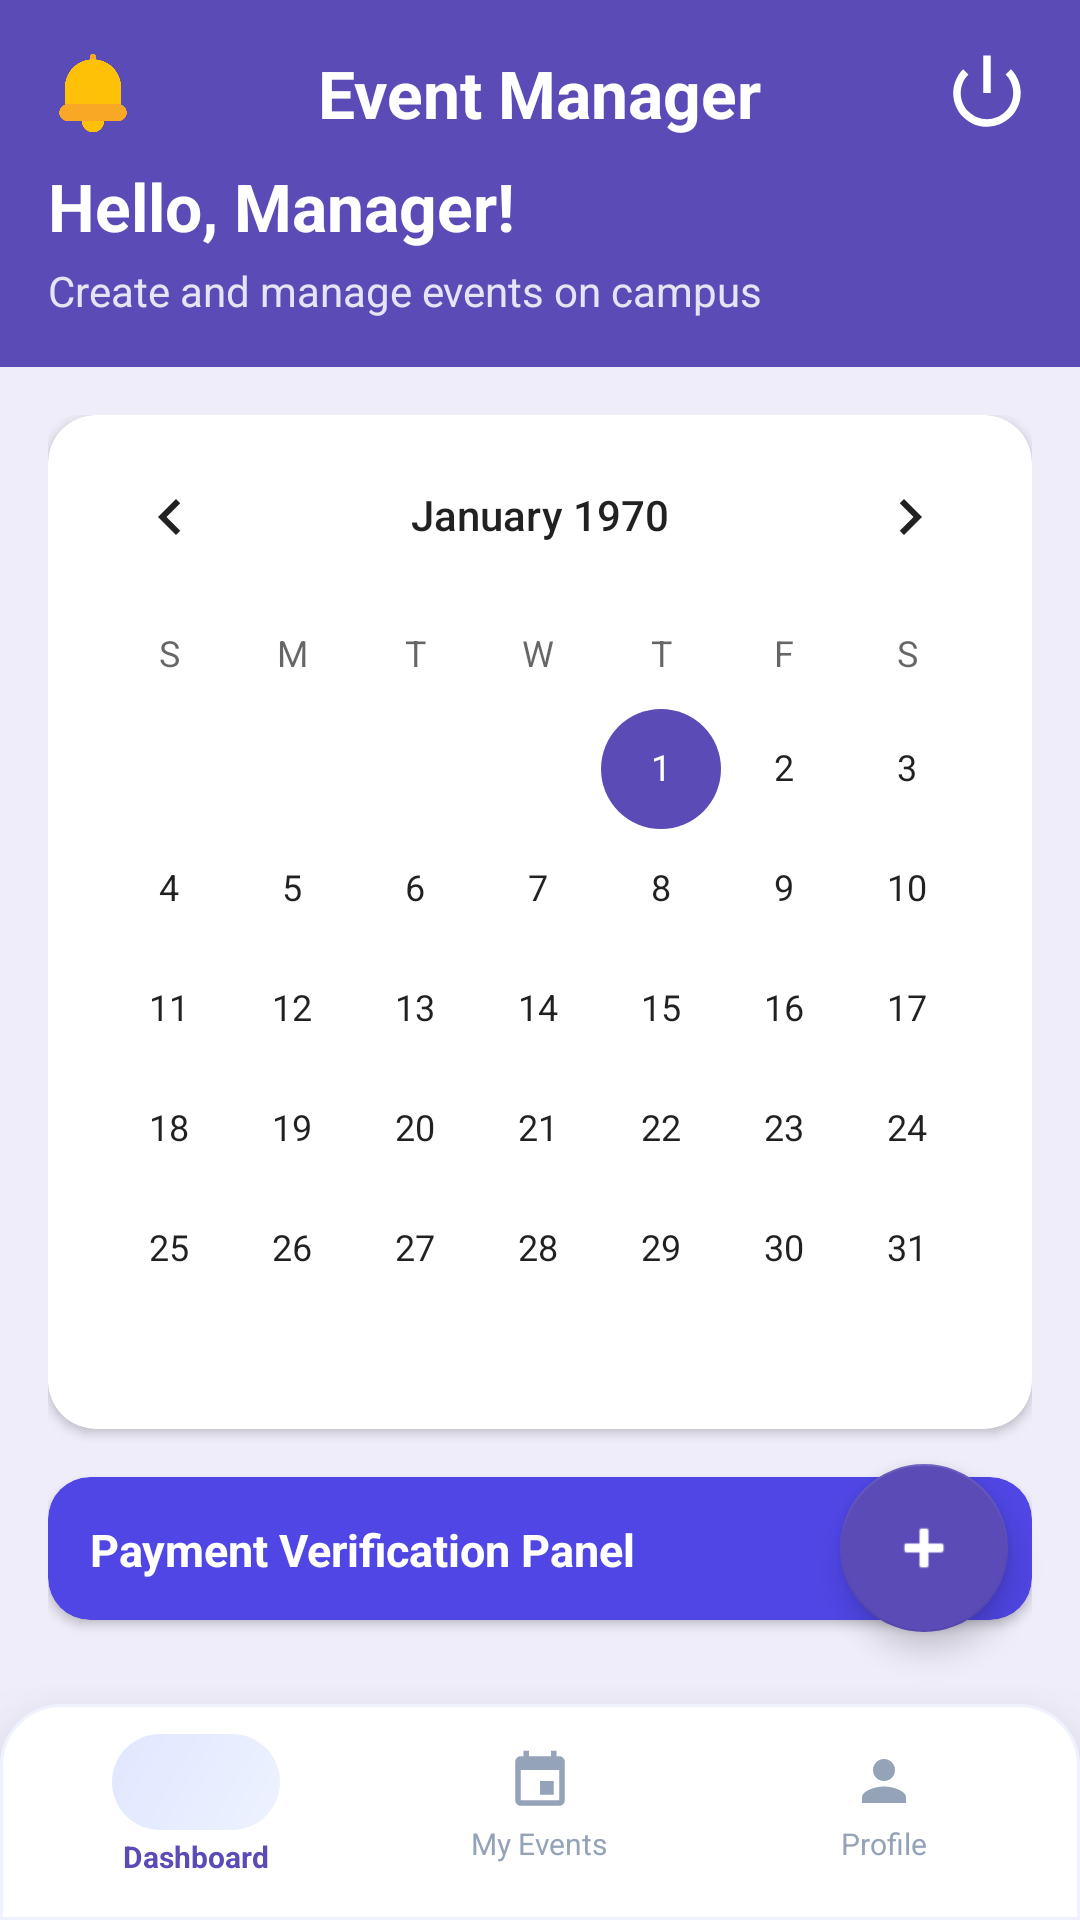

Where to tap for icons on this 1080x1920 app screen, as (x=x, y=y):
add: (x=924, y=1548)
Notifications: (x=93, y=93)
Sign Out: (x=987, y=91)
